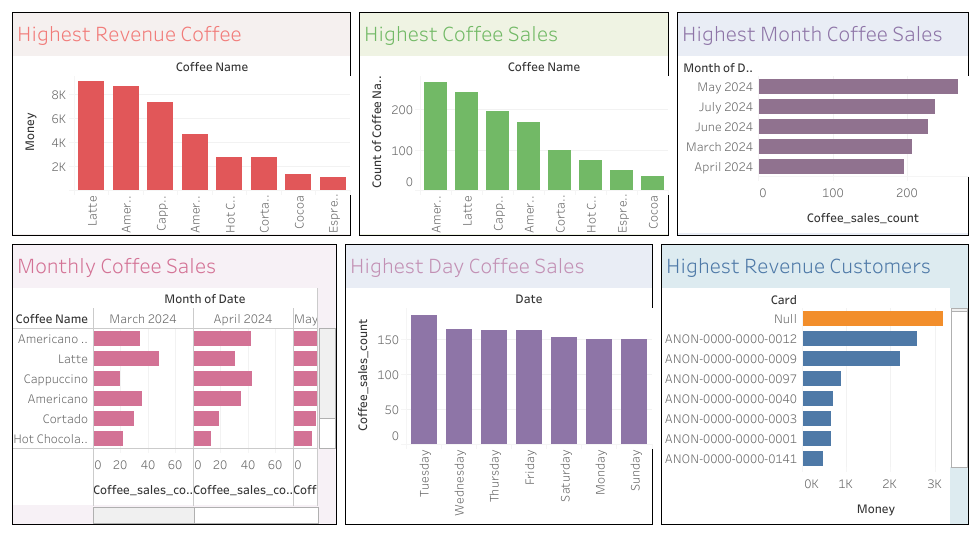

The dashboard page shown, as its layout file describes it:
{"tool":"tableau","page":{"name":"Dashboard 1","canvas":[1000,1000],"units":"permille","ordinal":0},"visuals":[{"type":"worksheet","title":"Sheet 1","mark":"Automatic","rows":["money"],"cols":["coffee_name"],"box":[6.9,13.5,354.9,432.4]},{"type":"worksheet","title":"Sheet 2","mark":"Automatic","rows":["coffee_name"],"cols":["coffee_name"],"box":[361.9,13.5,324.7,432.4]},{"type":"worksheet","title":"Sheet 6","mark":"Bar","rows":["date"],"cols":["Calculation_582371776929738752"],"box":[686.6,13.5,306.5,432.4]},{"type":"worksheet","title":"Sheet 3","mark":"Bar","rows":["coffee_name"],"cols":["date","Calculation_582371776929738752"],"box":[6.9,445.9,340.2,540.6]},{"type":"worksheet","title":"Sheet 4","mark":"Bar","rows":["Calculation_582371776929738752"],"cols":["date"],"box":[347.1,445.9,322.9,540.6]},{"type":"worksheet","title":"Sheet 5","mark":"Automatic","rows":["card"],"cols":["money"],"box":[670.1,445.9,323,540.6]}]}

Visuals, with their boxes on the dashboard's canvas, which has no fixed pixel size, in thousandths of its width and height (x1, y1, x2, y2). These are canvas units, not pixel positions in the 980x536 screenshot, which may show the page scaled, cropped or inside an application window:
"Sheet 1" worksheet: <bbox>7, 14, 362, 446</bbox>
"Sheet 2" worksheet: <bbox>362, 14, 687, 446</bbox>
"Sheet 6" worksheet (Bar marks): <bbox>687, 14, 993, 446</bbox>
"Sheet 3" worksheet (Bar marks): <bbox>7, 446, 347, 986</bbox>
"Sheet 4" worksheet (Bar marks): <bbox>347, 446, 670, 986</bbox>
"Sheet 5" worksheet: <bbox>670, 446, 993, 986</bbox>
